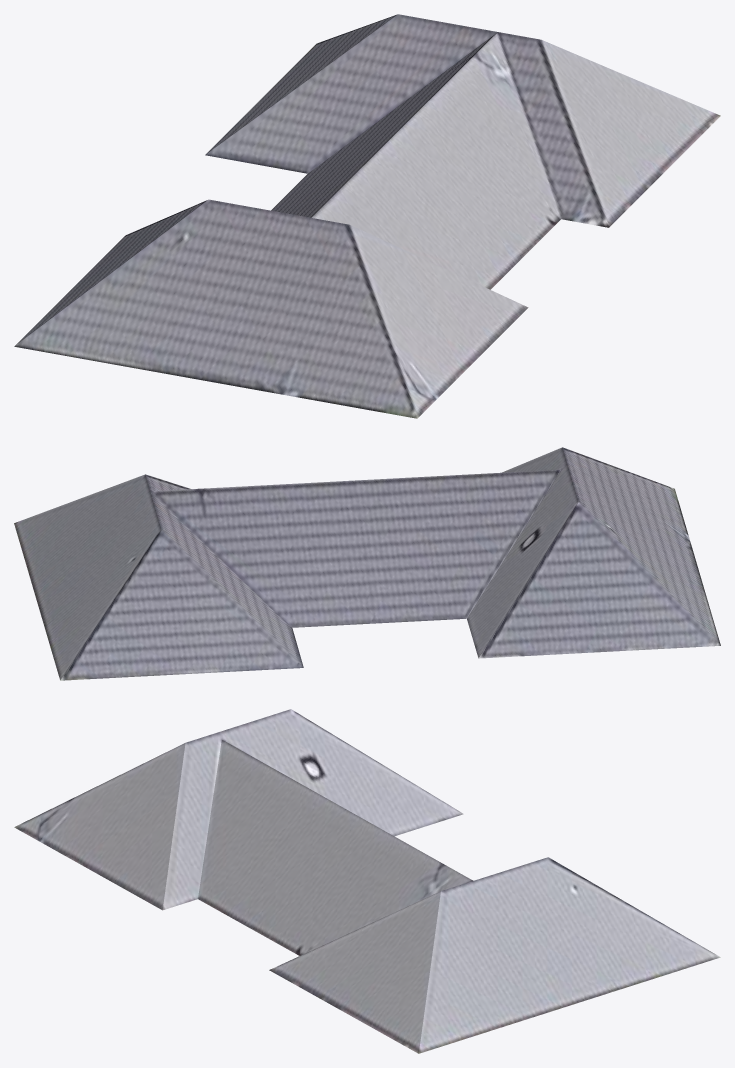
Rendered from BK39_500_017027_0012_roof.obj.
The picture shows the model from 3 angles, top to bottom: view 1: azimuth 30°, elevation 25°; view 2: azimuth 150°, elevation 25°; view 3: azimuth 270°, elevation 25°; orthographic projection. The views are drawn at different scales.
Visible parts, largest first — view 1: BK39_500_017027_0012_roof; view 2: BK39_500_017027_0012_roof; view 3: BK39_500_017027_0012_roof.
Boxes of the visible parts, x1=… form: BK39_500_017027_0012_roof: x1=14, y1=14, x2=720, y2=418; BK39_500_017027_0012_roof: x1=14, y1=447, x2=720, y2=680; BK39_500_017027_0012_roof: x1=14, y1=709, x2=720, y2=1053.
Bounding box in the file's own units: 495 × 70 × 458.
Materials: 1 (1 with a texture image).
